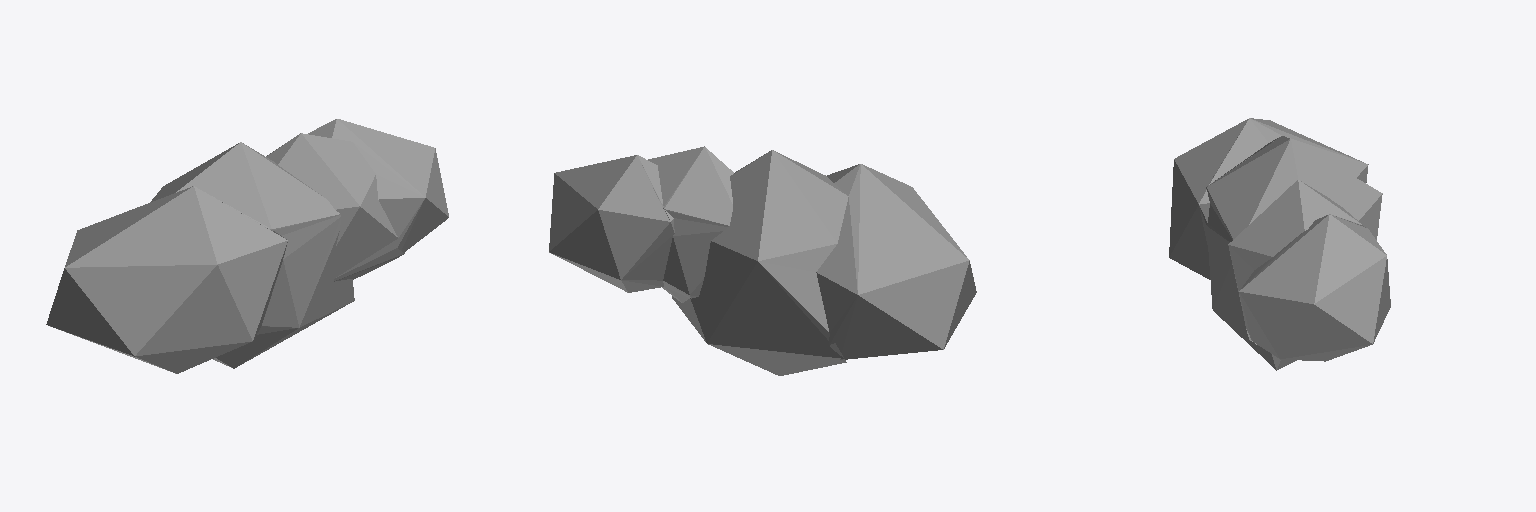
File: Cloud2.obj
3 renders of one model, left to right at view 1: azimuth 30°, elevation 25°; view 2: azimuth 150°, elevation 25°; view 3: azimuth 270°, elevation 25°, orthographic.
Visible parts, largest first — view 1: Icosphere.001_Icosphere.015; view 2: Icosphere.001_Icosphere.015; view 3: Icosphere.001_Icosphere.015.
Boxes of the visible parts, x1,y1,x2,y2 form: Icosphere.001_Icosphere.015: [46, 119, 448, 373]; Icosphere.001_Icosphere.015: [549, 146, 976, 375]; Icosphere.001_Icosphere.015: [1169, 118, 1390, 370].
Bounding box in the file's own units: 5.72 × 3.13 × 2.8.